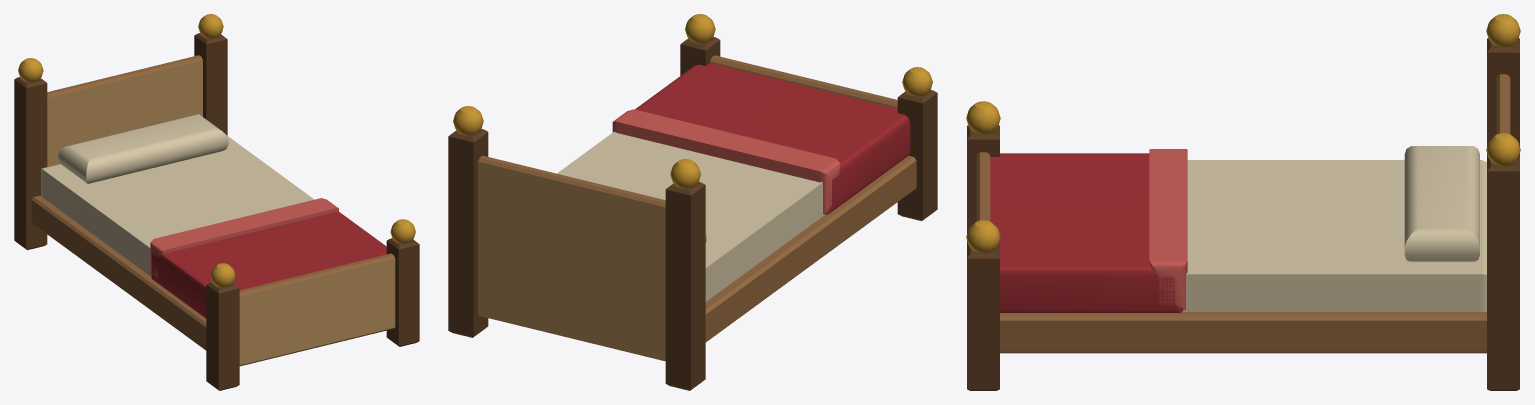
File: Bed_11.glb
3 renders of one model, left to right at view 1: azimuth 30°, elevation 25°; view 2: azimuth 150°, elevation 25°; view 3: azimuth 270°, elevation 25°, orthographic. The views are drawn at different scales.
Visible parts, largest first — view 1: Bed_11; view 2: Bed_11; view 3: Bed_11.
Part boxes in pixels (x1,y1,x2,y2): Bed_11: [14, 14, 419, 390]; Bed_11: [448, 14, 937, 390]; Bed_11: [966, 14, 1520, 390].
Size of the model in its own units: 4.6 by 4.03 by 8.07.
